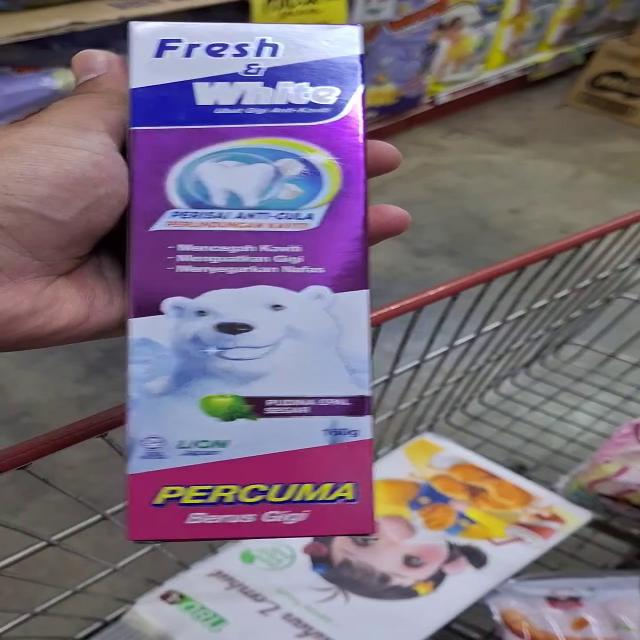Tisu: (141, 542, 492, 640), (392, 426, 590, 562)
Ubat Gigi: (124, 20, 378, 539)
